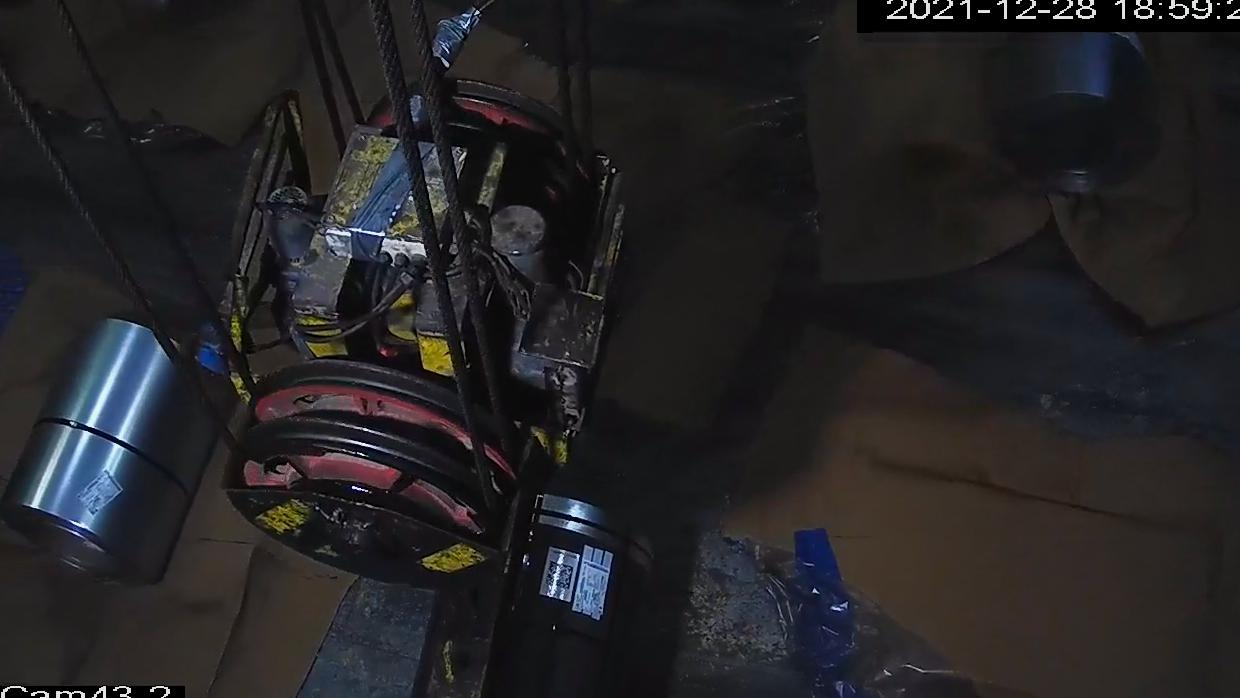data matrix: (545, 559, 576, 592)
